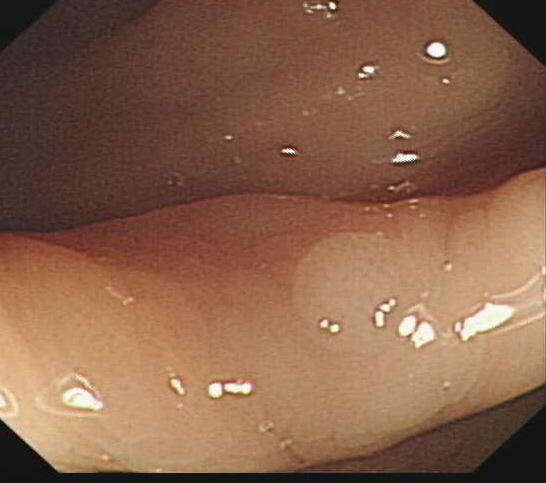others: (288, 228, 427, 355)
